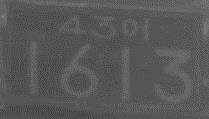1: (110, 45, 141, 102), (21, 39, 50, 95)
3: (153, 47, 194, 104), (88, 14, 115, 40)
4: (57, 13, 84, 37)
6: (57, 41, 97, 98)
어: (120, 17, 150, 40)
